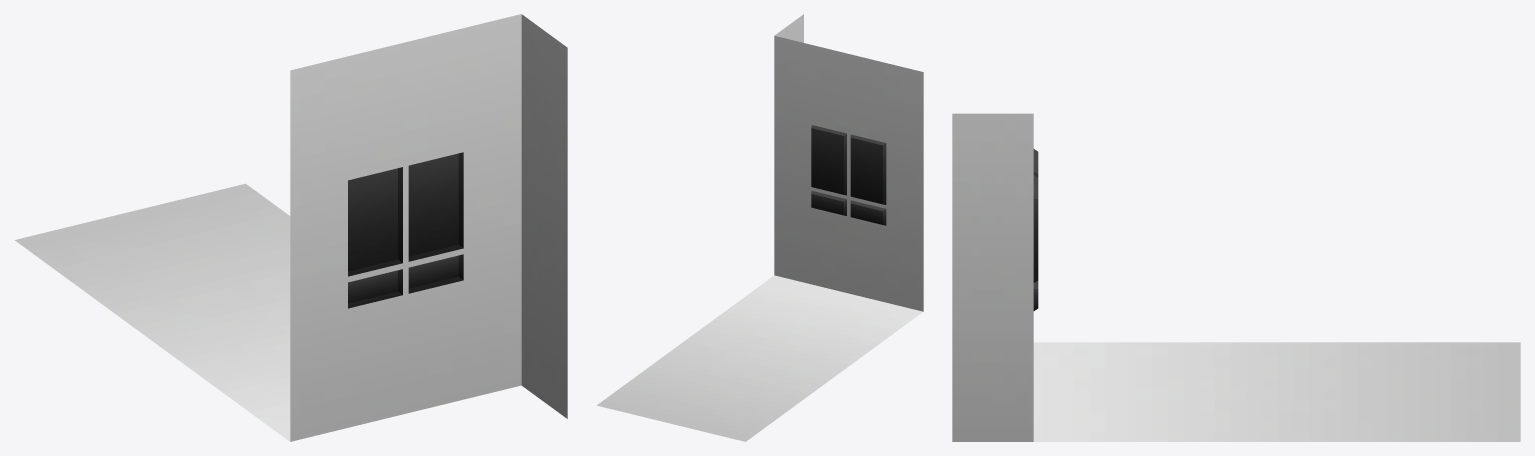
The model's file is MidWind 1.fbx.
3 renders of one model, left to right at view 1: azimuth 30°, elevation 25°; view 2: azimuth 150°, elevation 25°; view 3: azimuth 270°, elevation 25°, orthographic. The views are drawn at different scales.
Visible parts, largest first — view 1: midWall, MidFloor; view 2: midWall, MidFloor; view 3: MidFloor, midWall.
Part boxes in pixels (<box>): midWall: <box>290,14,567,441</box>; MidFloor: <box>14,183,290,441</box>; midWall: <box>774,14,923,311</box>; MidFloor: <box>597,275,923,441</box>; MidFloor: <box>1033,342,1520,441</box>; midWall: <box>952,113,1038,441</box>.
Bounding box in the file's own units: 250 × 384 × 602.
1 material, 1 textured.
